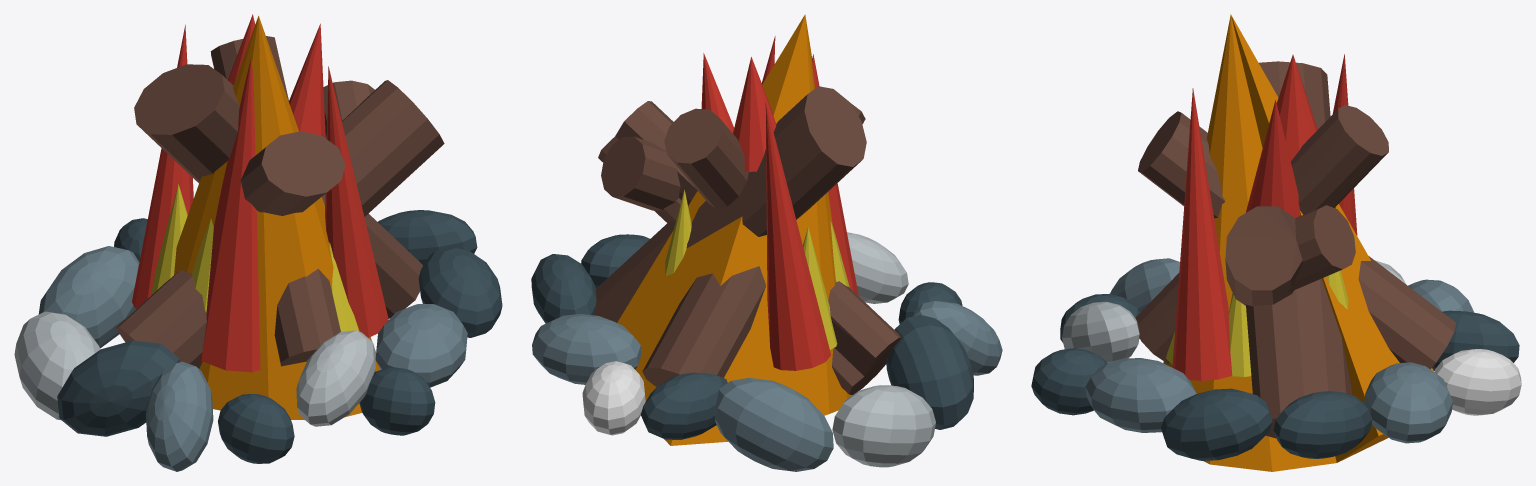
Rendered from campfire.gltf.
3 views of the same model, side by side, from view 1: azimuth 30°, elevation 25°; view 2: azimuth 150°, elevation 25°; view 3: azimuth 270°, elevation 25° (orthographic). The views are drawn at different scales.
Parts seen in each view (by area): view 1: node_MeshObject1357757440-PolyPaper20; view 2: node_MeshObject1357757440-PolyPaper20; view 3: node_MeshObject1357757440-PolyPaper20.
Part boxes in pixels (x1=…): node_MeshObject1357757440-PolyPaper20: x1=14, y1=14, x2=502, y2=471; node_MeshObject1357757440-PolyPaper20: x1=531, y1=14, x2=1002, y2=471; node_MeshObject1357757440-PolyPaper20: x1=1031, y1=14, x2=1521, y2=471.
Size of the model in its own units: 0.5895 by 0.5221 by 0.5836.
